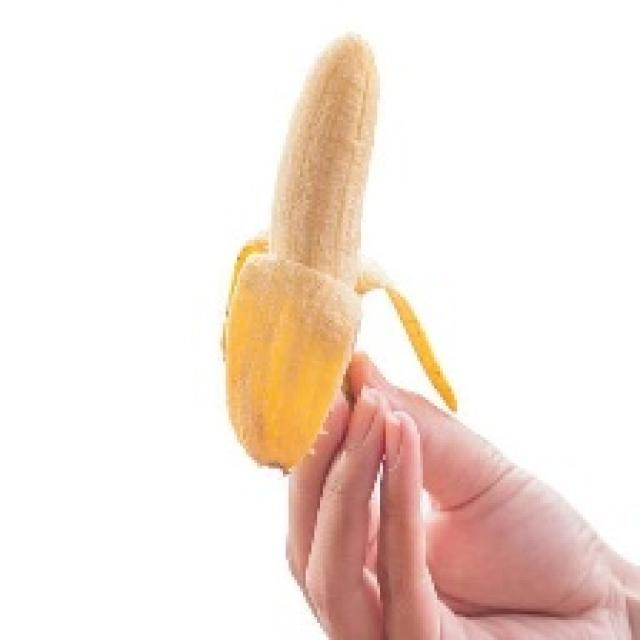Banana: (220, 29, 457, 474)
